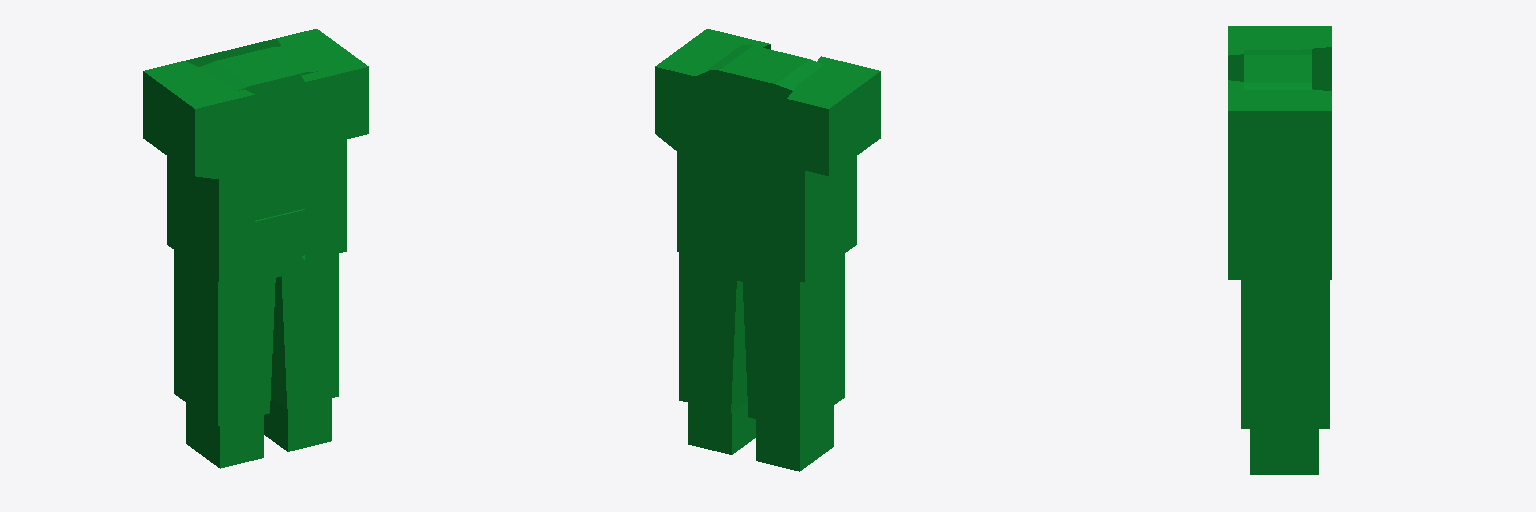
The picture shows the model from 3 angles: view 1: azimuth 30°, elevation 25°; view 2: azimuth 150°, elevation 25°; view 3: azimuth 270°, elevation 25°; orthographic projection.
Parts seen in each view (by area): view 1: body; view 2: body; view 3: body.
Part boxes in pixels (x1,y1,x2,y2): body: (143, 29, 368, 468); body: (655, 29, 880, 471); body: (1228, 26, 1331, 474).
Bounding box in the file's own units: 1.25 × 2.59 × 0.6485.
1 materials, 1 textured.